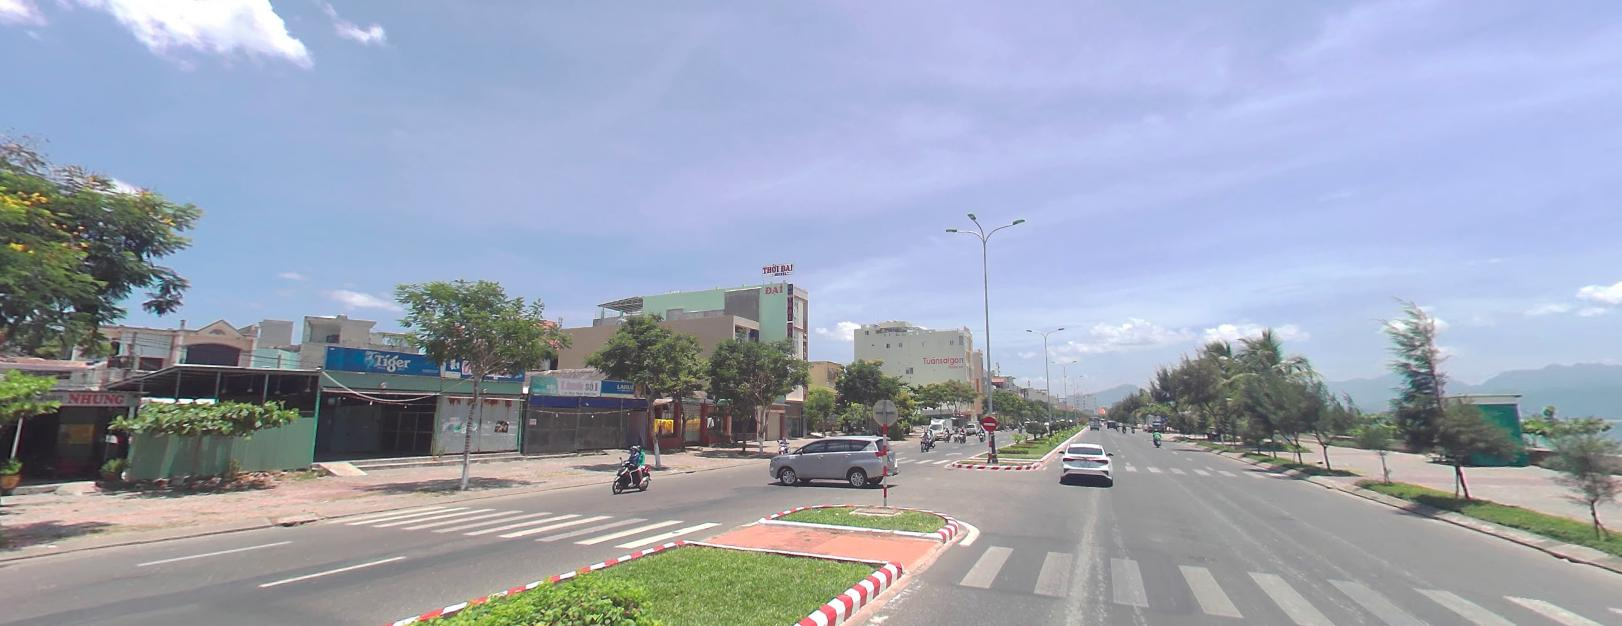Cam nguoc chieu: (980, 415, 996, 430)
